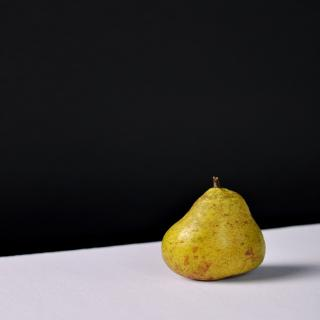Pear: (160, 186, 265, 280)
